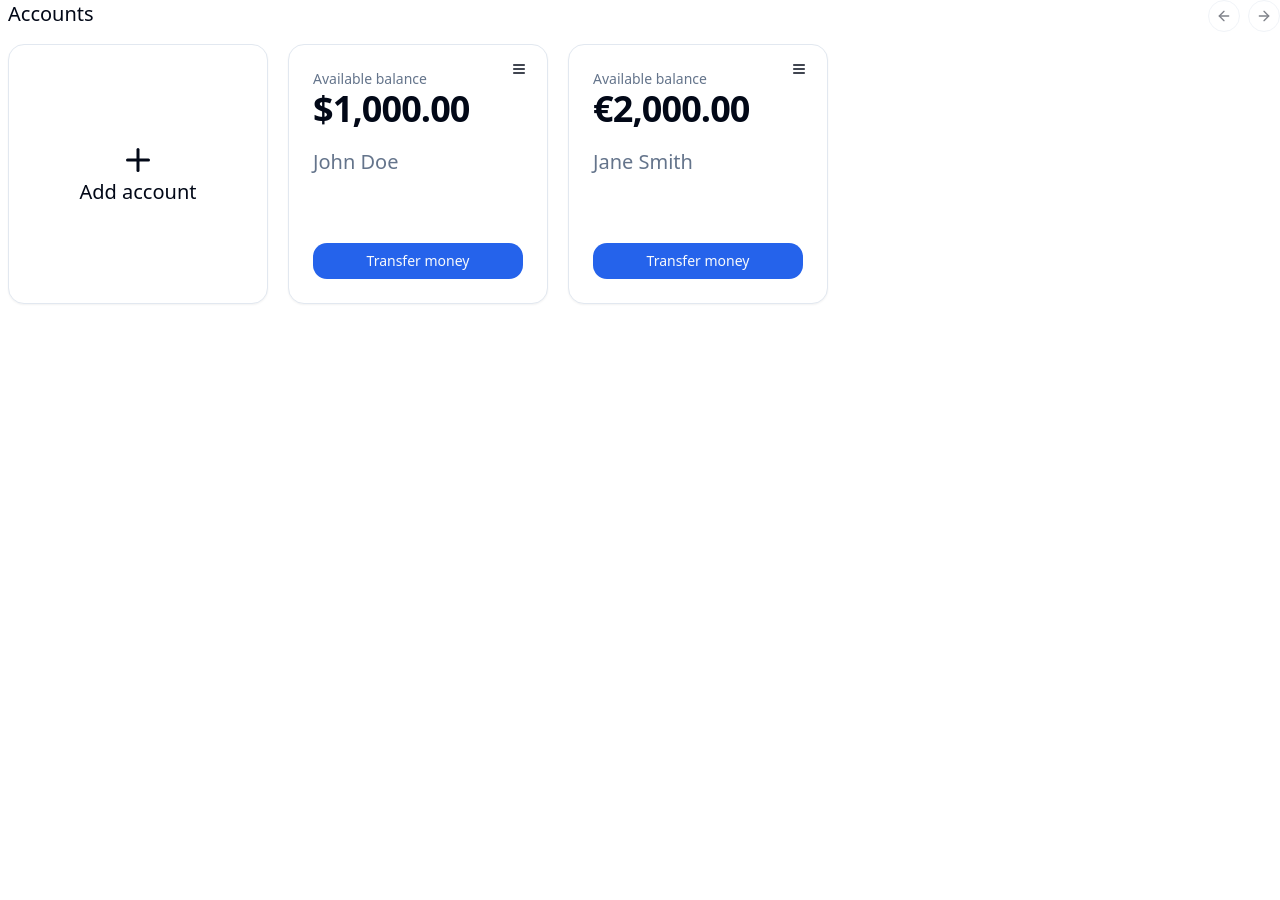
Test case: AccountsList › opens the CreateAccountForm dialog when the add account card is clicked
The width and height of the screenshot is (1280, 900).
Note: Click the add account card
Click the text "Add account": [138, 192] box x1=80 y1=178 x2=196 y2=206
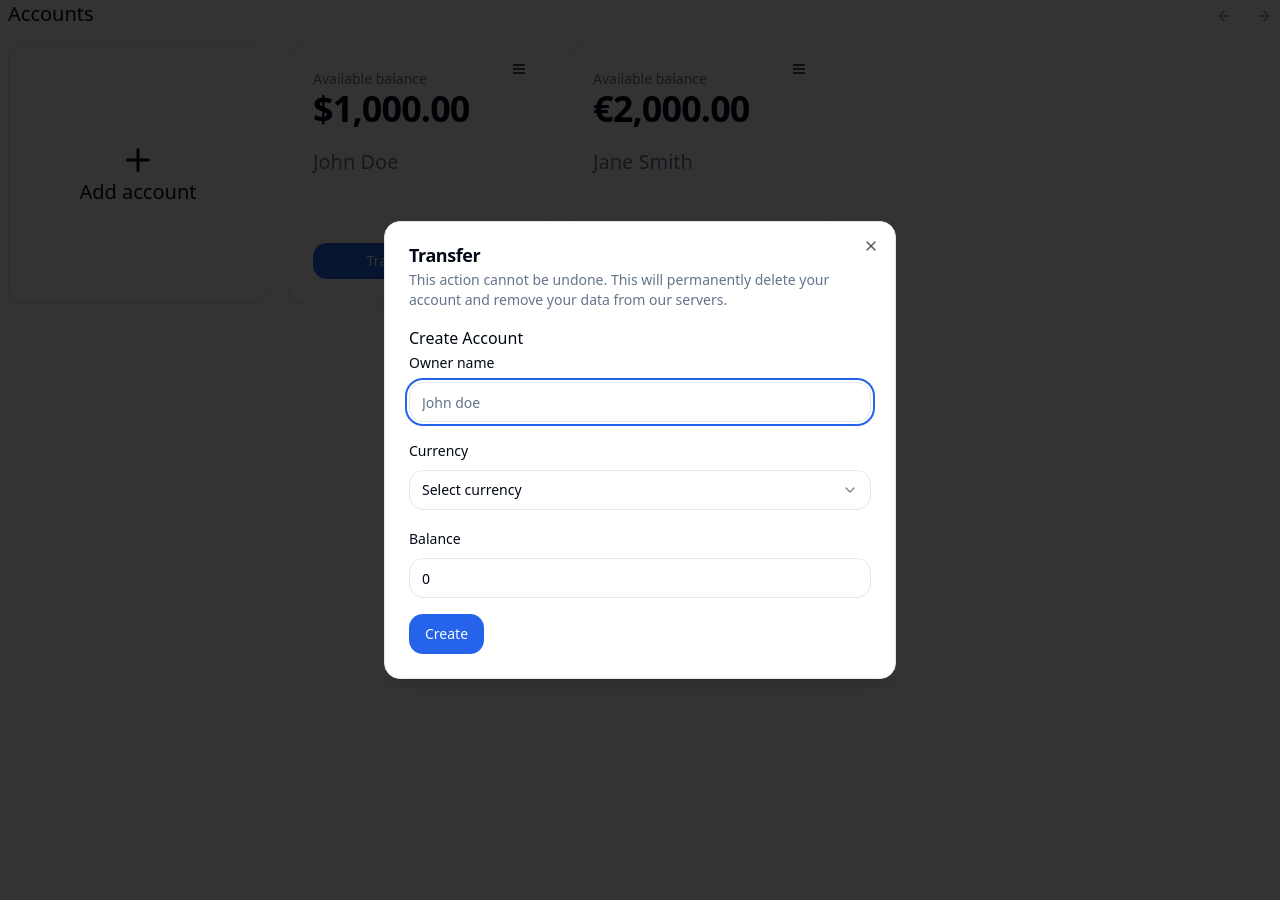
Check: the dialog is shown, box x1=384 y1=221 x2=896 y2=679
Check: the heading "Create Account" is shown, box x1=409 y1=327 x2=523 y2=349
